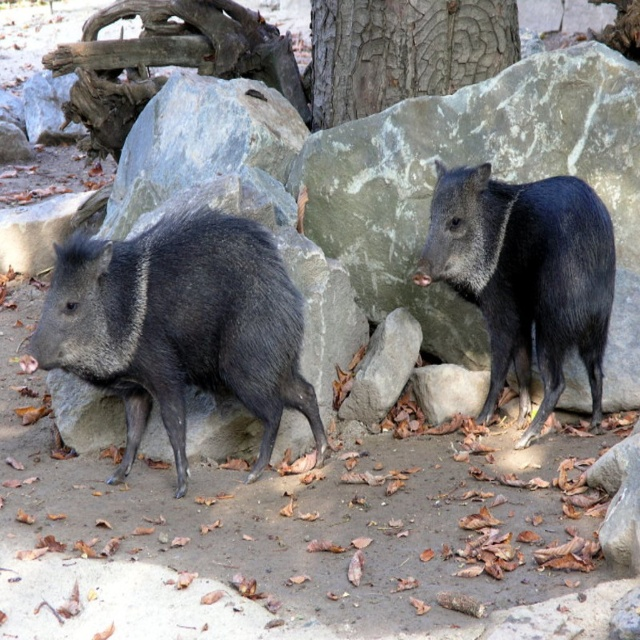Pig: (16, 198, 333, 500), (411, 154, 618, 450)
